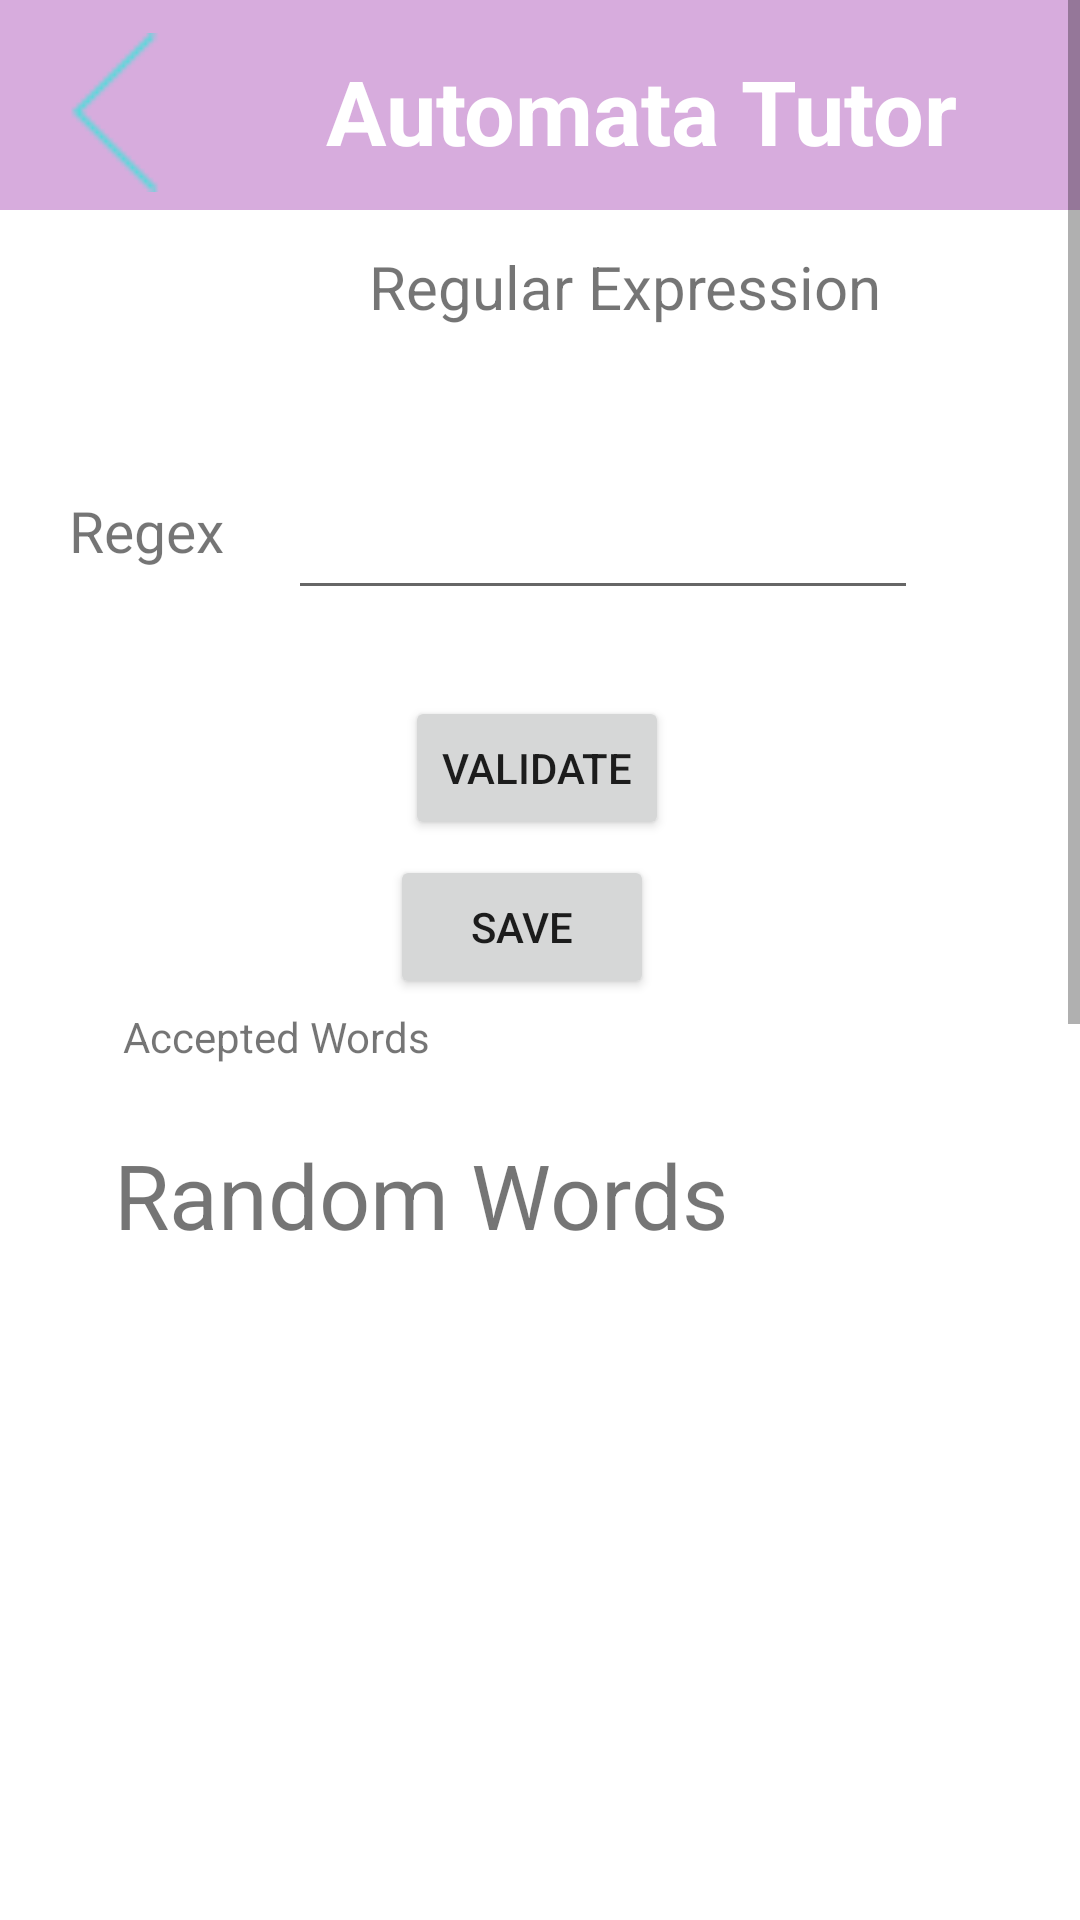

Where icons sit on this 1080*1920 app screen, as region(x1, y1, x2, y2):
backiconimg: region(72, 33, 158, 192)
